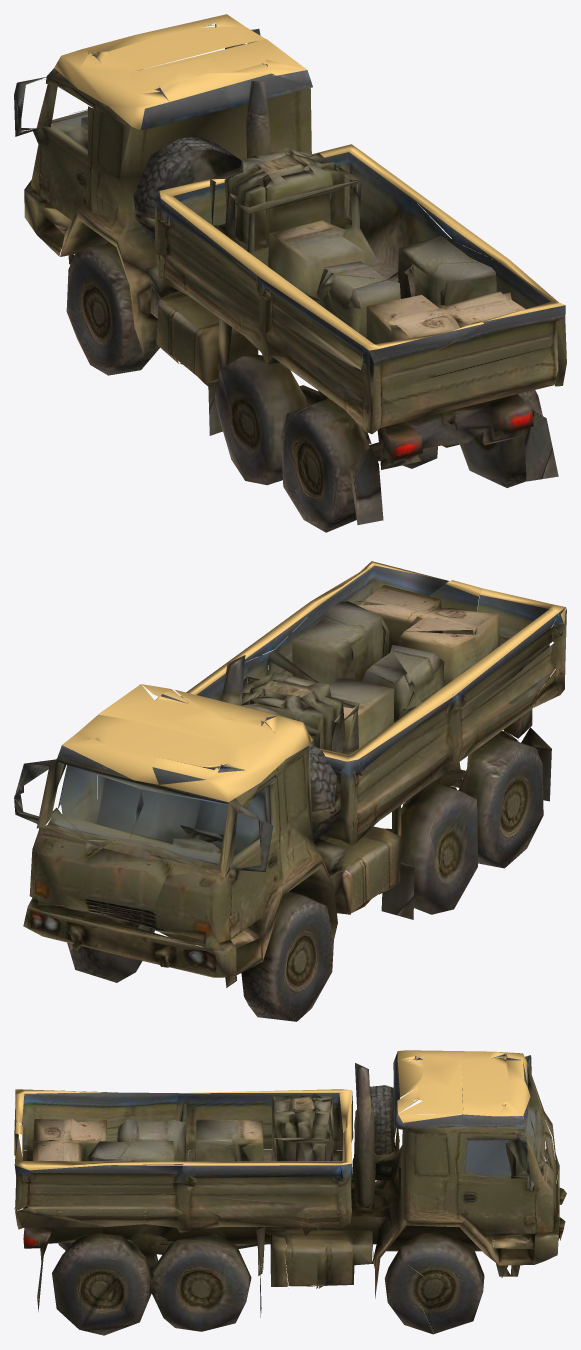
Rendered from hauler.glb.
3 renders of one model, top to bottom at view 1: azimuth 30°, elevation 25°; view 2: azimuth 150°, elevation 25°; view 3: azimuth 270°, elevation 25°, orthographic. The views are drawn at different scales.
Visible parts, largest first — view 1: Model; view 2: Model; view 3: Model.
Boxes of the visible parts, x1,y1,x2,y2 form: Model: [14, 14, 566, 532]; Model: [14, 561, 566, 1021]; Model: [14, 1050, 566, 1335].
Bounding box in the file's own units: 0.6698 × 0.758 × 1.6.
2 materials, 1 textured.
